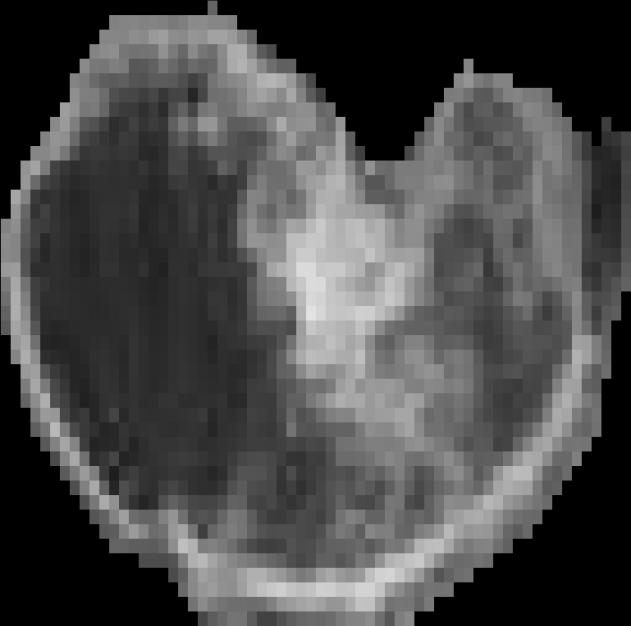tumor_moderate_chance: (1, 1, 631, 626)
